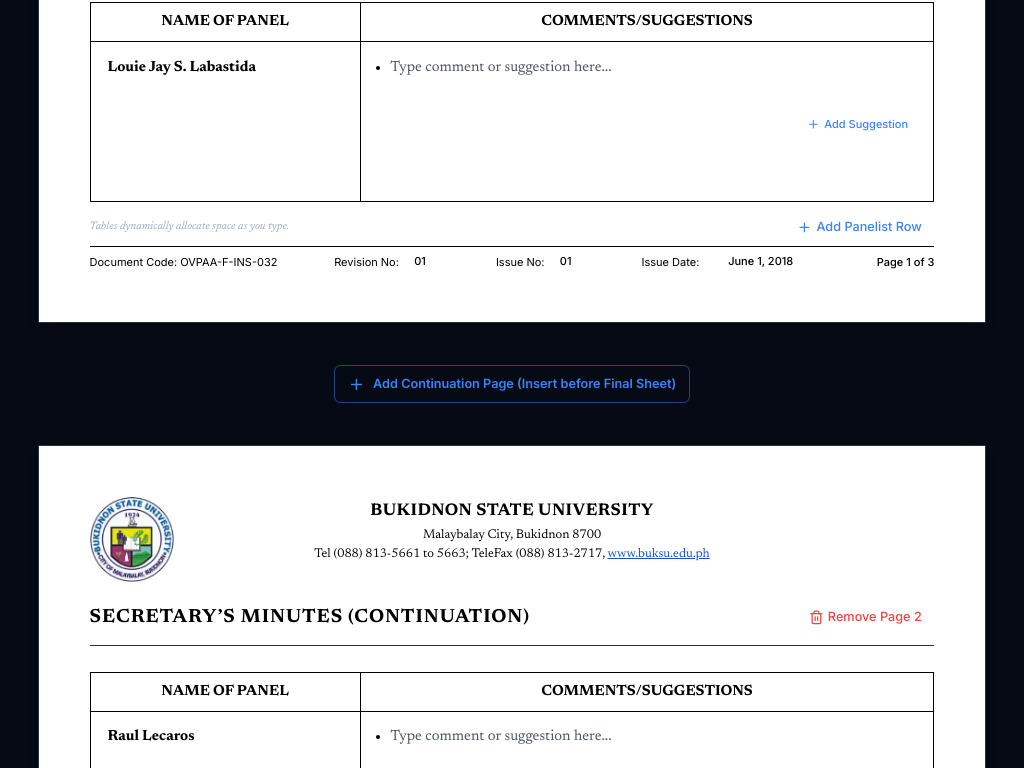
Scenario: SecretaryMinutesDocumentSheet Component › inserts continuation page before final sheet, resulting in 4 sheets and preserving Final Sheet as Page 4
(page scrolled)
// Click to insert continuation page after Page 1
What coordinates should you click on to do the following:
click the button with test id "add-continuation-page-btn-1"
I would click on:
 (512, 384)
Its box is [334,365,690,403].
(page scrolled)
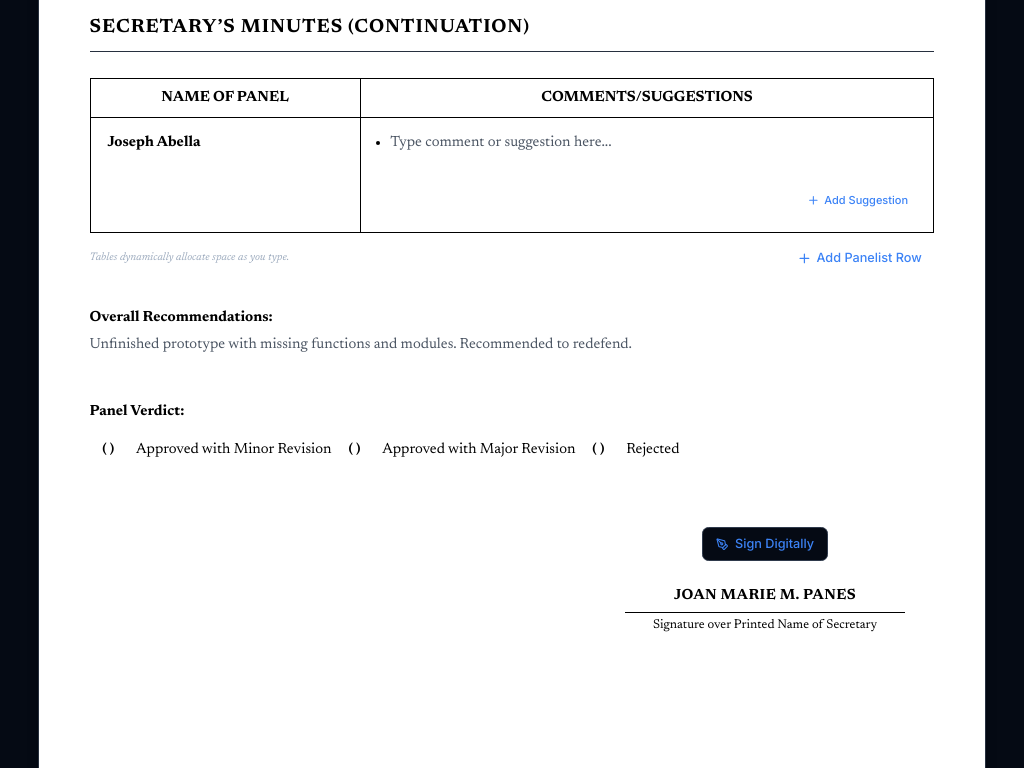
Check: the element with test id "secretary-minutes-page-4" shows "Overall Recommendations:", box [90,310,273,325]
Check: the element with test id "secretary-minutes-page-4" shows "Panel Verdict:", box [90,404,184,418]
Check: the element with test id "secretary-minutes-page-4" shows "Signature over Printed Name of Secretary", box [653,619,877,631]
